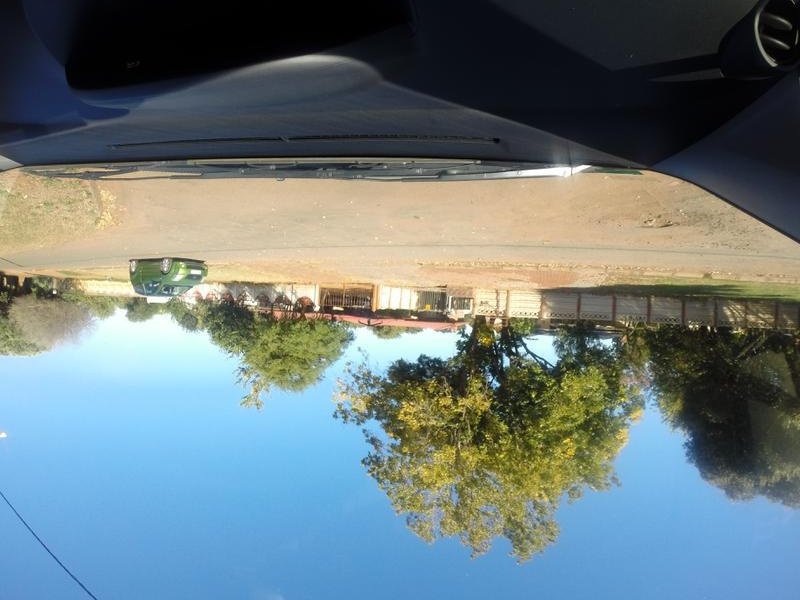pothole: (616, 197, 709, 247)
